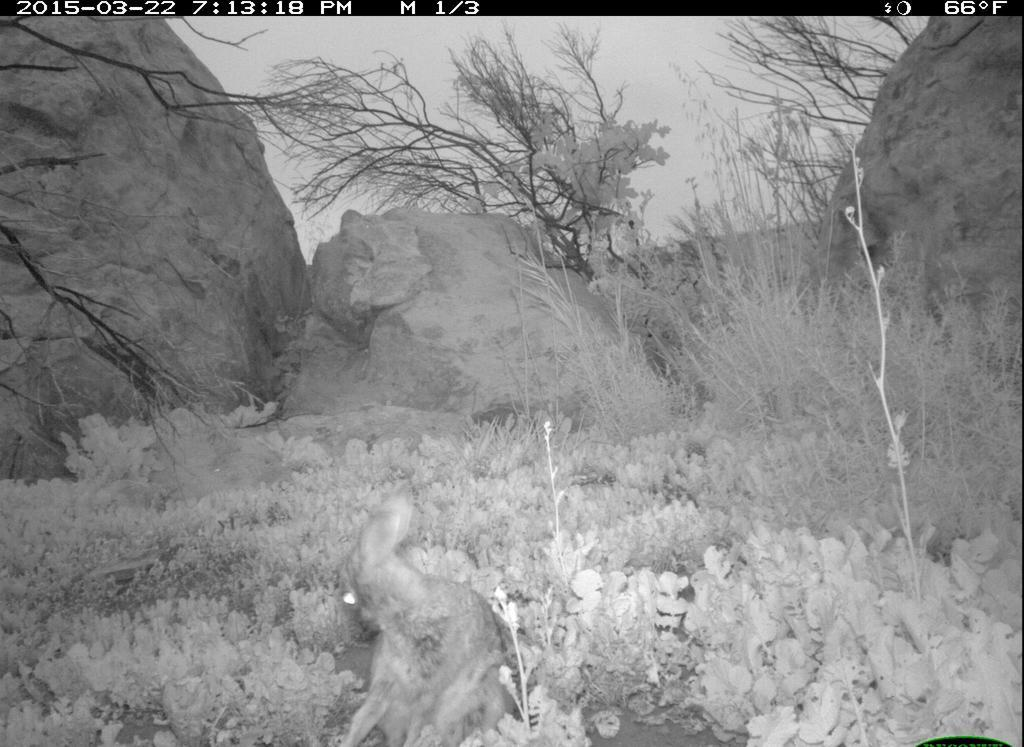rabbit: (323, 482, 530, 747)
